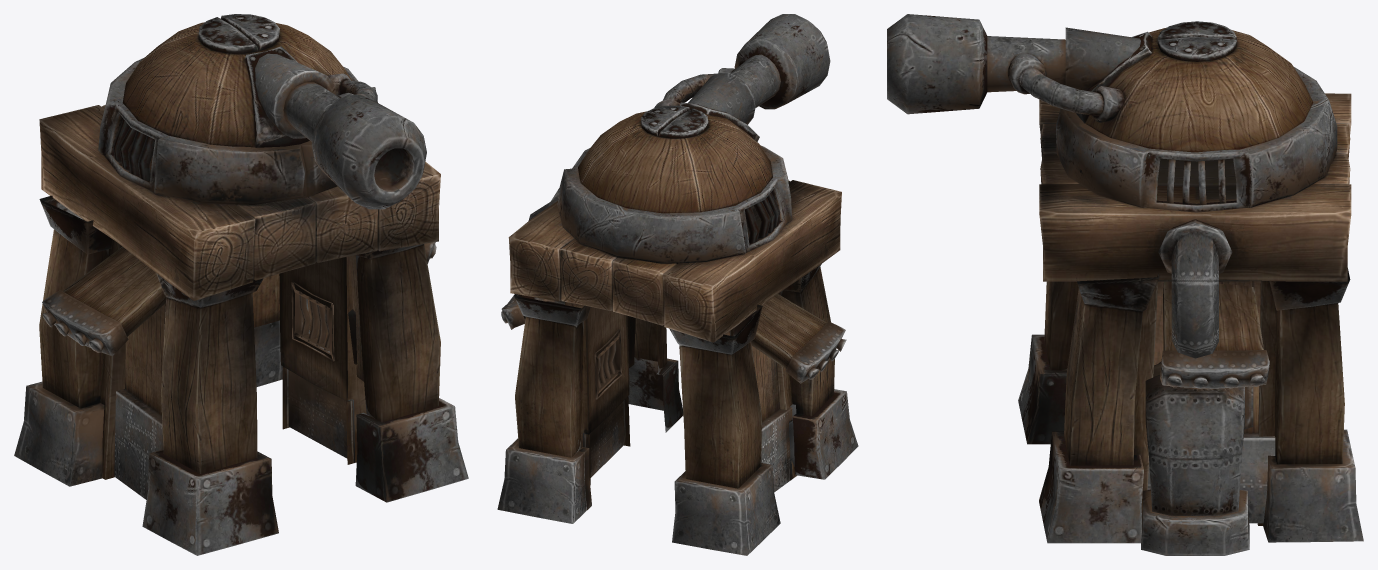
3 views of the same model, side by side, from view 1: azimuth 30°, elevation 25°; view 2: azimuth 150°, elevation 25°; view 3: azimuth 270°, elevation 25° (orthographic). The views are drawn at different scales.
Parts seen in each view (by area): view 1: low_poly_gun_Circle.003_low_poly_gun_Circle.004, low_poly_gun_Circle.000, low_poly_gun_Circle.001_low_poly_gun_Circle.002; view 2: low_poly_gun_Circle.000, low_poly_gun_Circle.003_low_poly_gun_Circle.004, low_poly_gun_Circle.001_low_poly_gun_Circle.002; view 3: low_poly_gun_Circle.000, low_poly_gun_Circle.003_low_poly_gun_Circle.004, low_poly_gun_Circle.001_low_poly_gun_Circle.002.
Boxes of the visible parts, <box> form: low_poly_gun_Circle.003_low_poly_gun_Circle.004: <box>14,195,468,555</box>; low_poly_gun_Circle.000: <box>39,14,440,364</box>; low_poly_gun_Circle.001_low_poly_gun_Circle.002: <box>114,255,363,499</box>; low_poly_gun_Circle.000: <box>508,14,841,342</box>; low_poly_gun_Circle.003_low_poly_gun_Circle.004: <box>497,264,858,555</box>; low_poly_gun_Circle.001_low_poly_gun_Circle.002: <box>565,302,796,491</box>; low_poly_gun_Circle.000: <box>887,14,1351,555</box>; low_poly_gun_Circle.003_low_poly_gun_Circle.004: <box>1018,268,1363,543</box>; low_poly_gun_Circle.001_low_poly_gun_Circle.002: <box>1147,281,1275,523</box>.
Size of the model in its own units: 322 by 386 by 362.
